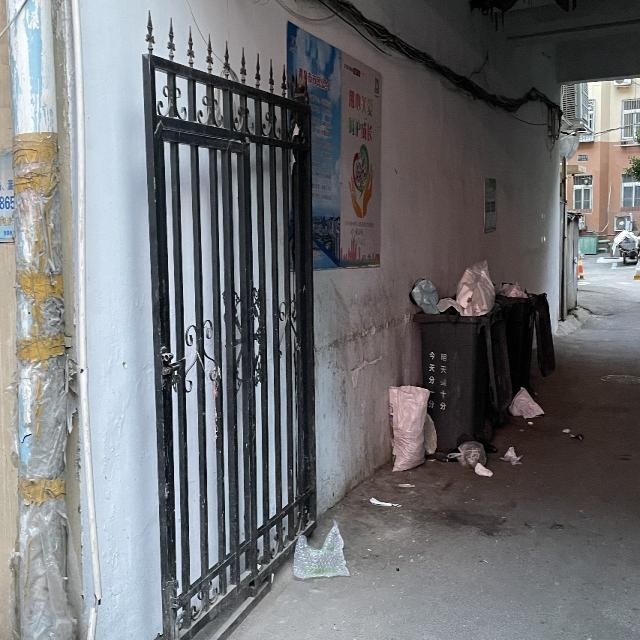garbage: (368, 382, 542, 507), (291, 520, 350, 578)
overflow: (409, 258, 511, 455), (494, 279, 554, 399)
